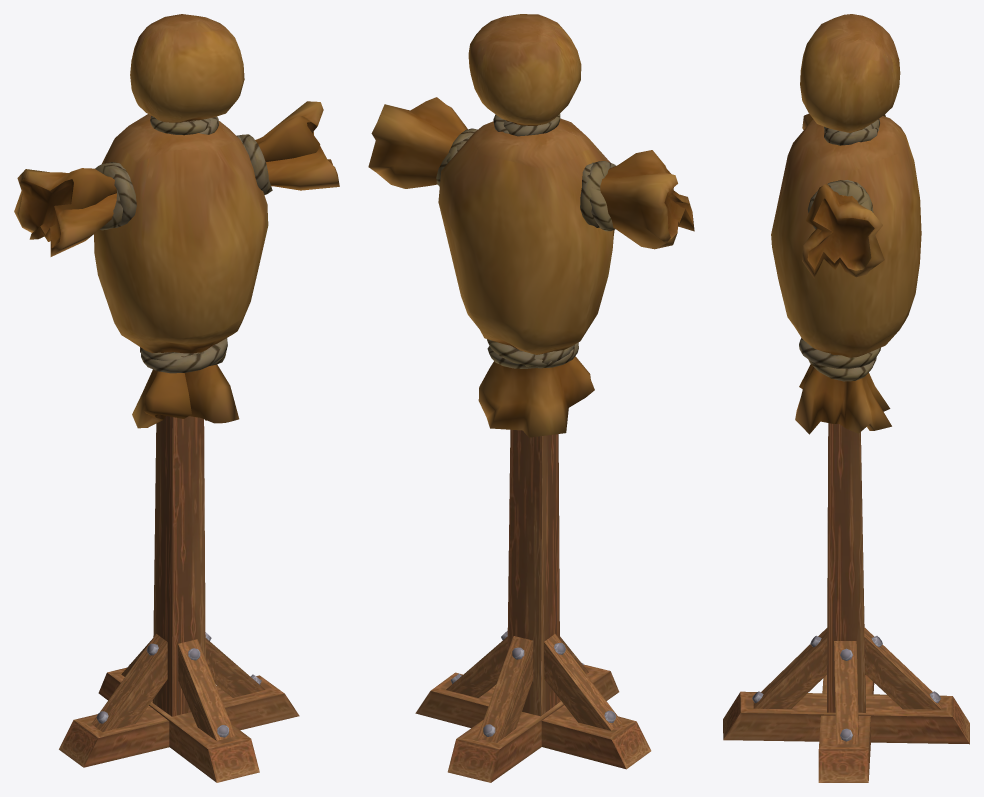
The model's file is Dummy.glb.
3 views of the same model, side by side, from view 1: azimuth 30°, elevation 25°; view 2: azimuth 150°, elevation 25°; view 3: azimuth 270°, elevation 25° (orthographic).
Parts seen in each view (by area): view 1: Dummy; view 2: Dummy; view 3: Dummy.
Part boxes in pixels (<box>): Dummy: <box>14,14,339,782</box>; Dummy: <box>368,14,694,782</box>; Dummy: <box>723,14,969,782</box>.
Bounding box in the file's own units: 0.8084 × 1.86 × 0.5847.
Materials: 3 (3 with a texture image).
